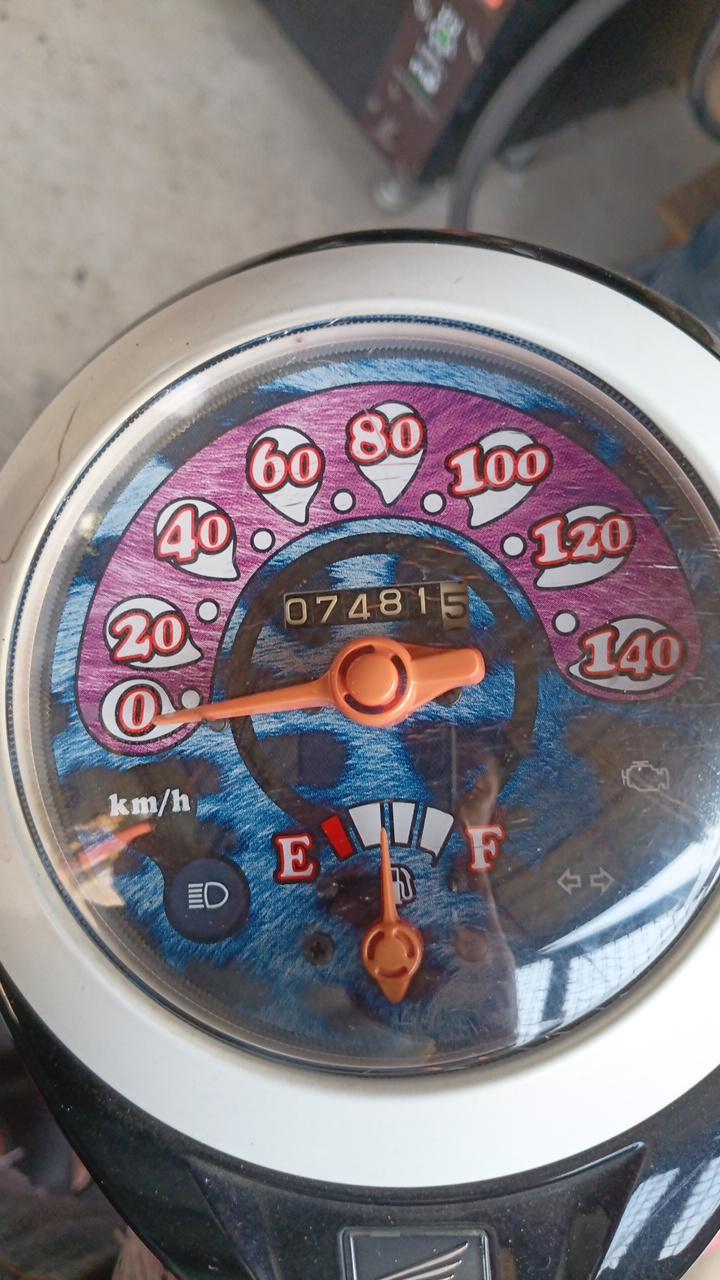0: (285, 596, 308, 627)
1: (417, 586, 426, 615)
4: (348, 593, 371, 622)
5: (443, 590, 468, 621)
7: (316, 595, 339, 625)
8: (378, 588, 402, 616)
odometer: (282, 579, 471, 636)
